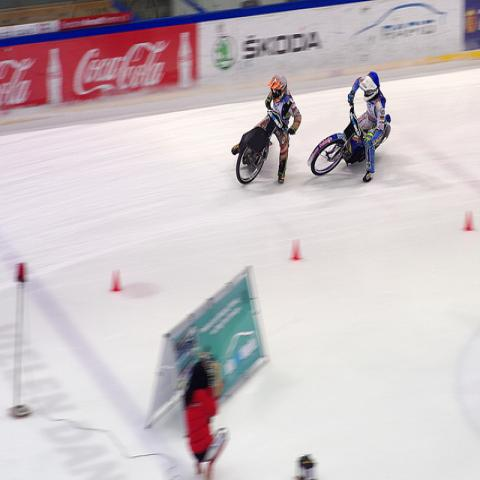motorcycle: (308, 101, 391, 176), (237, 106, 290, 185)
